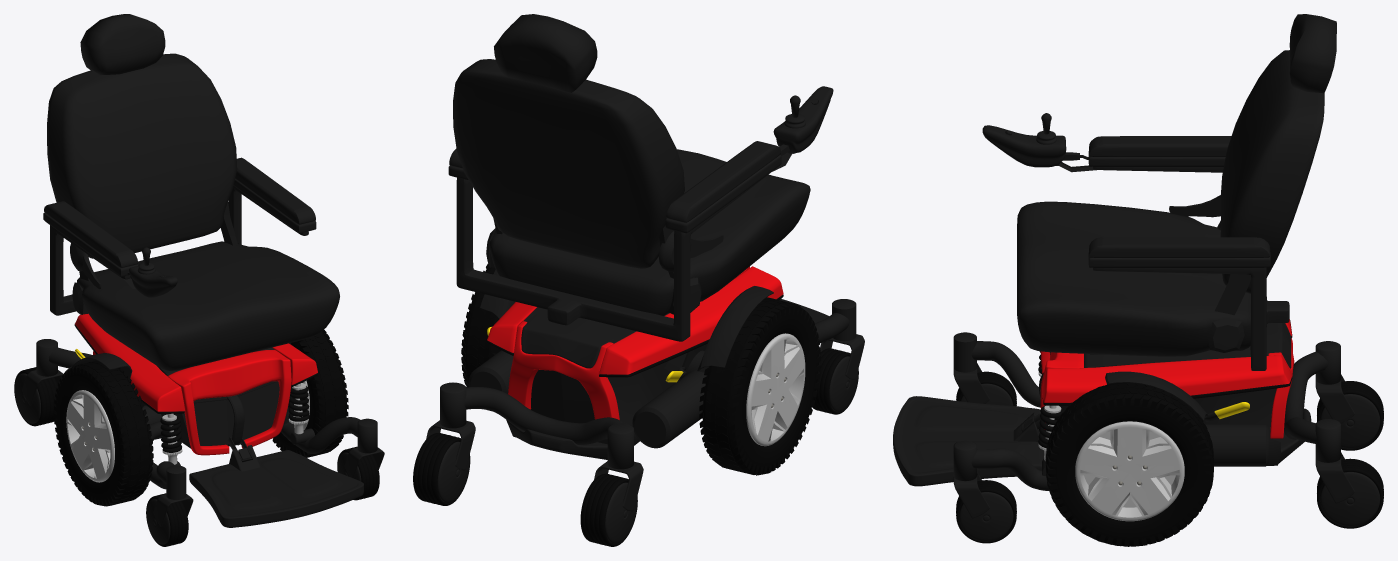
The model's file is PowerChairExport1.fbx.
3 renders of one model, left to right at view 1: azimuth 30°, elevation 25°; view 2: azimuth 150°, elevation 25°; view 3: azimuth 270°, elevation 25°, orthographic. The views are drawn at different scales.
Parts seen in each view (by area): view 1: Cube.017, Cube.015, Cube.011, Tread, Tire, Cube.001, Cube.020, Cube, Cube.003, Cube.018, Cube.002, Wheel (+12 smaller); view 2: Cube.017, Cube.015, Cube.019, Tire, Tread, Cube, Circle.003, Cube.018, Wheel, Cube.002, Cube.020, Cylinder.003 (+11 smaller); view 3: Cube.015, Cube.017, Cube.020, Tire, Cube.011, Wheel, Cube.003, Cube, Circle.003, Tread, Cube.005, Circle.004 (+12 smaller).
Part boxes in pixels (<box>): Cube.017: <box>47,53,237,258</box>; Cube.015: <box>77,241,339,370</box>; Cube.011: <box>189,450,363,527</box>; Tread: <box>54,329,348,506</box>; Tire: <box>55,331,346,503</box>; Cube.001: <box>167,350,291,455</box>; Cube.020: <box>43,157,316,276</box>; Cube: <box>74,313,317,413</box>; Cube.003: <box>149,407,384,526</box>; Cube.018: <box>80,14,165,74</box>; Cube.002: <box>140,381,279,448</box>; Wheel: <box>66,380,309,482</box>; Cube.017: <box>453,59,684,268</box>; Cube.015: <box>489,149,810,315</box>; Cube.019: <box>456,172,771,341</box>; Tire: <box>463,267,818,473</box>; Tread: <box>461,263,820,475</box>; Cube: <box>486,266,783,377</box>; Circle.003: <box>413,433,637,546</box>; Cube.018: <box>494,14,597,92</box>; Wheel: <box>746,333,805,446</box>; Cube.002: <box>506,343,707,445</box>; Cube.020: <box>448,141,781,233</box>; Cylinder.003: <box>468,350,706,448</box>; Cube.015: <box>1017,201,1250,356</box>; Cube.017: <box>1220,50,1324,293</box>; Cube.020: <box>1088,136,1270,267</box>; Tire: <box>1046,383,1213,545</box>; Cube.011: <box>893,396,1044,486</box>; Wheel: <box>1075,421,1184,521</box>; Cube.003: <box>953,332,1048,518</box>; Cube: <box>1042,319,1292,405</box>; Circle.003: <box>1317,381,1383,528</box>; Tread: <box>1045,383,1213,546</box>; Cube.005: <box>1315,341,1355,503</box>; Circle.004: <box>956,371,1016,543</box>.
Size of the model in its own units: 445 by 759 by 725.
